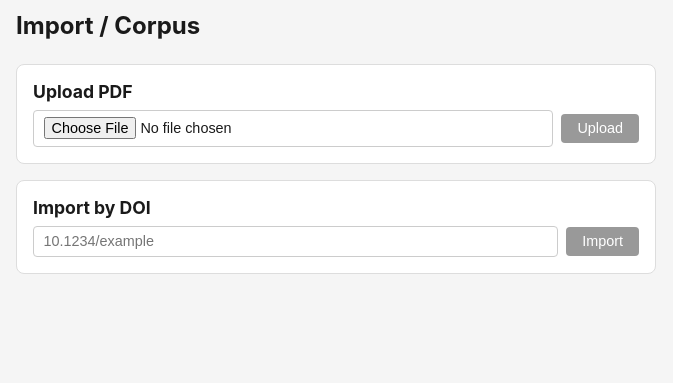
Scenario: JobTracker › polls and displays done status
The width and height of the screenshot is (673, 383).
In the field with test id "doi-input": (296, 241) [33, 226, 558, 257], type "10.1/abc"
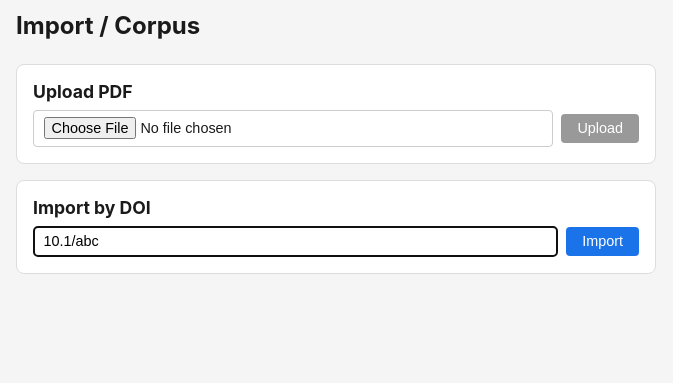
Click the button with test id "doi-btn": click(603, 241) [566, 227, 639, 256]
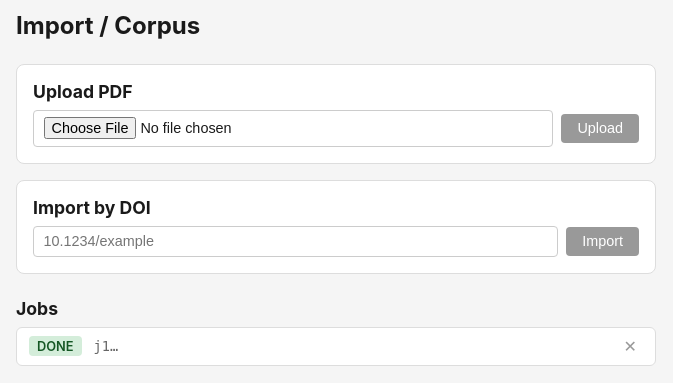
Result: the element with test id "job-j1" shows "done" at [37, 339, 74, 354]
